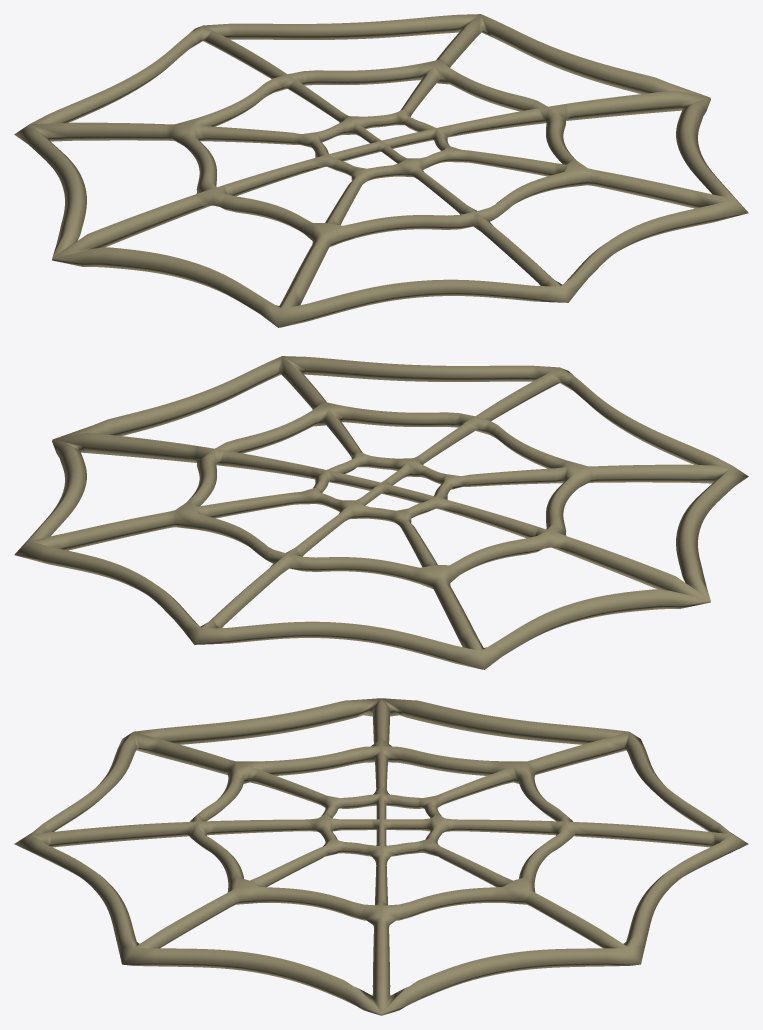
File: паутинка.fbx
The picture shows the model from 3 angles, top to bottom: view 1: azimuth 30°, elevation 25°; view 2: azimuth 150°, elevation 25°; view 3: azimuth 270°, elevation 25°; orthographic projection.
Parts seen in each view (by area): view 1: Sphere; view 2: Sphere; view 3: Sphere.
Boxes of the visible parts, x1,y1,x2,y2 form: Sphere: [14, 14, 748, 327]; Sphere: [14, 356, 748, 669]; Sphere: [14, 698, 748, 1015].
Bounding box in the file's own units: 205 × 13.49 × 202.
